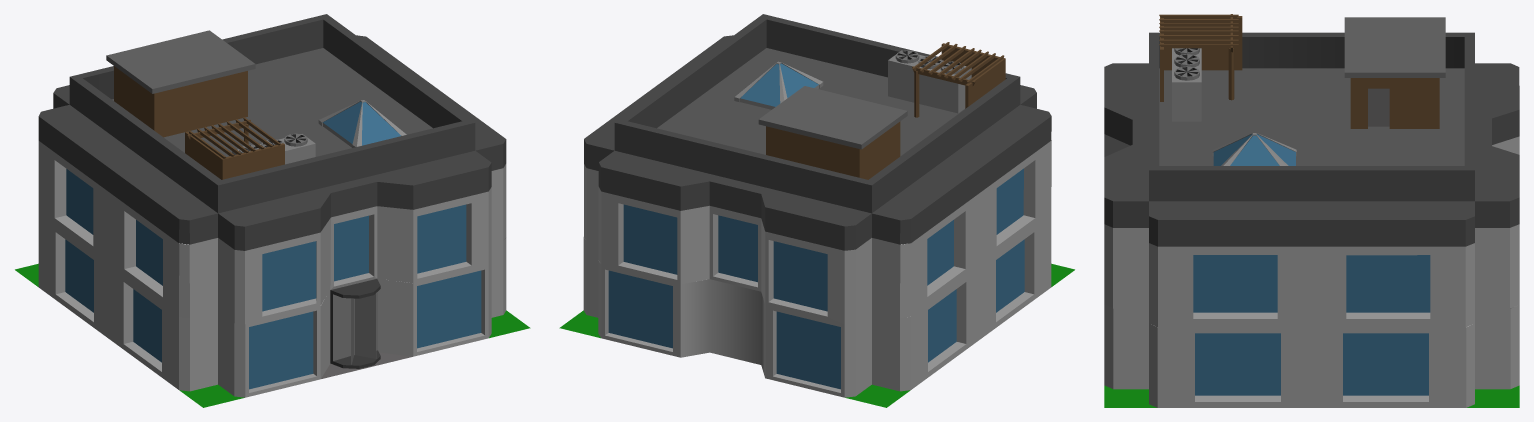
The model's file is Envi_Building_Modern_002.fbx.
3 views of the same model, side by side, from view 1: azimuth 30°, elevation 25°; view 2: azimuth 150°, elevation 25°; view 3: azimuth 270°, elevation 25° (orthographic). The views are drawn at different scales.
Visible parts, largest first — view 1: Roof, Mid_Floor, Building_Base, Roof_Access, Revolving_door, SkyLight, pCube2, Vent_Unit; view 2: Roof, Building_Base, Mid_Floor, Roof_Access, Vent_Unit, SkyLight, pCube2; view 3: Roof, Building_Base, Mid_Floor, Roof_Access, SkyLight, pCube2, Vent_Unit, pCube8, pCube11, pCube7, pCube6, pCube5 (+1 smaller).
Part boxes in pixels (x1,y1,x2,y2): Roof: [38, 14, 506, 250]; Mid_Floor: [38, 141, 506, 324]; Building_Base: [15, 214, 530, 407]; Roof_Access: [106, 30, 255, 137]; Revolving_door: [330, 279, 380, 368]; SkyLight: [318, 100, 406, 147]; pCube2: [185, 131, 284, 179]; Vent_Unit: [232, 134, 315, 164]; Roof: [584, 14, 1051, 250]; Building_Base: [559, 214, 1074, 407]; Mid_Floor: [584, 140, 1051, 324]; Roof_Access: [758, 86, 907, 179]; Vent_Unit: [888, 50, 971, 113]; SkyLight: [734, 61, 823, 109]; pCube2: [941, 43, 1005, 108]; Roof: [1104, 32, 1519, 246]; Building_Base: [1104, 305, 1519, 407]; Mid_Floor: [1104, 134, 1519, 327]; Roof_Access: [1344, 17, 1445, 128]; SkyLight: [1212, 133, 1296, 165]; pCube2: [1160, 16, 1242, 101]; Vent_Unit: [1172, 48, 1201, 121]; pCube8: [1159, 26, 1238, 30]; pCube11: [1159, 14, 1238, 18]; pCube7: [1159, 30, 1238, 34]; pCube6: [1159, 35, 1238, 39]; pCube5: [1159, 39, 1238, 43].
Bounding box in the file's own units: 1400 × 917 × 1400.
